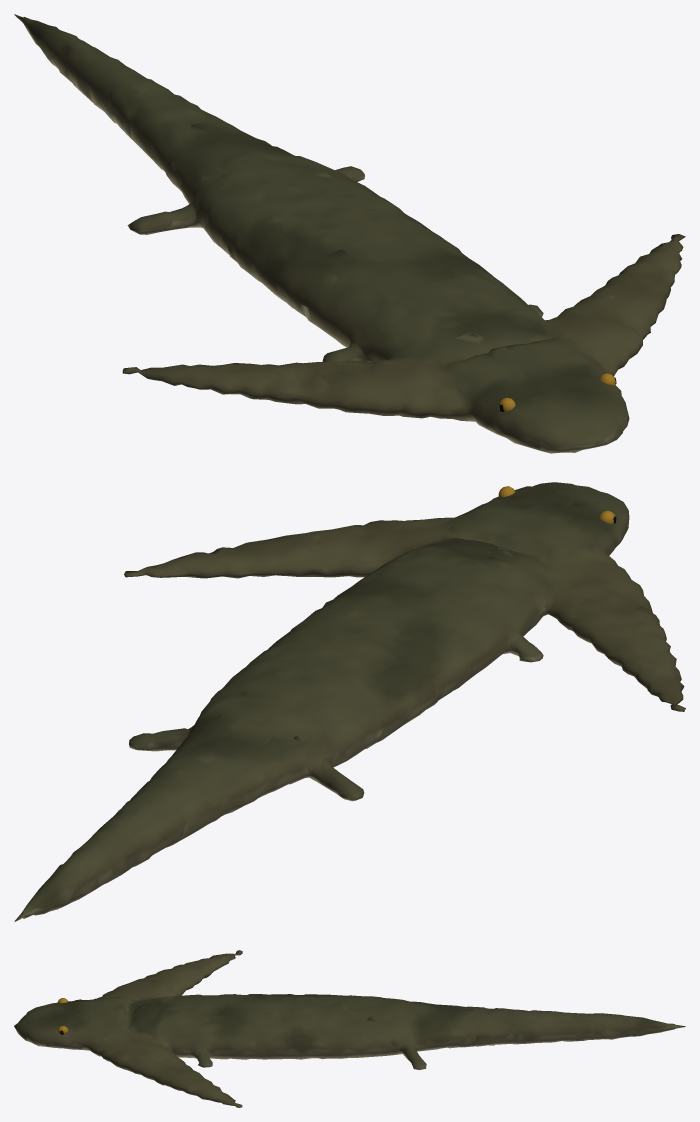
File: Diplocaulus.fbx
3 renders of one model, top to bottom at view 1: azimuth 30°, elevation 25°; view 2: azimuth 150°, elevation 25°; view 3: azimuth 270°, elevation 25°, orthographic. The views are drawn at different scales.
Parts seen in each view (by area): view 1: Diplocaulus; view 2: Diplocaulus; view 3: Diplocaulus.
Boxes of the visible parts, box(x1,y1,x2,y2) form: Diplocaulus: box(14, 14, 685, 453); Diplocaulus: box(14, 482, 685, 921); Diplocaulus: box(14, 950, 685, 1107).
Size of the model in its own units: 0.7384 by 0.0941 by 1.33.
